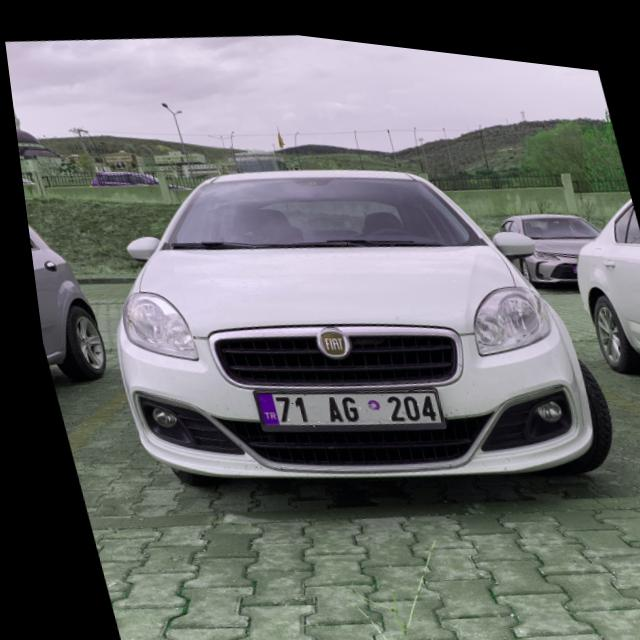license_plate: (242, 361, 438, 442)
